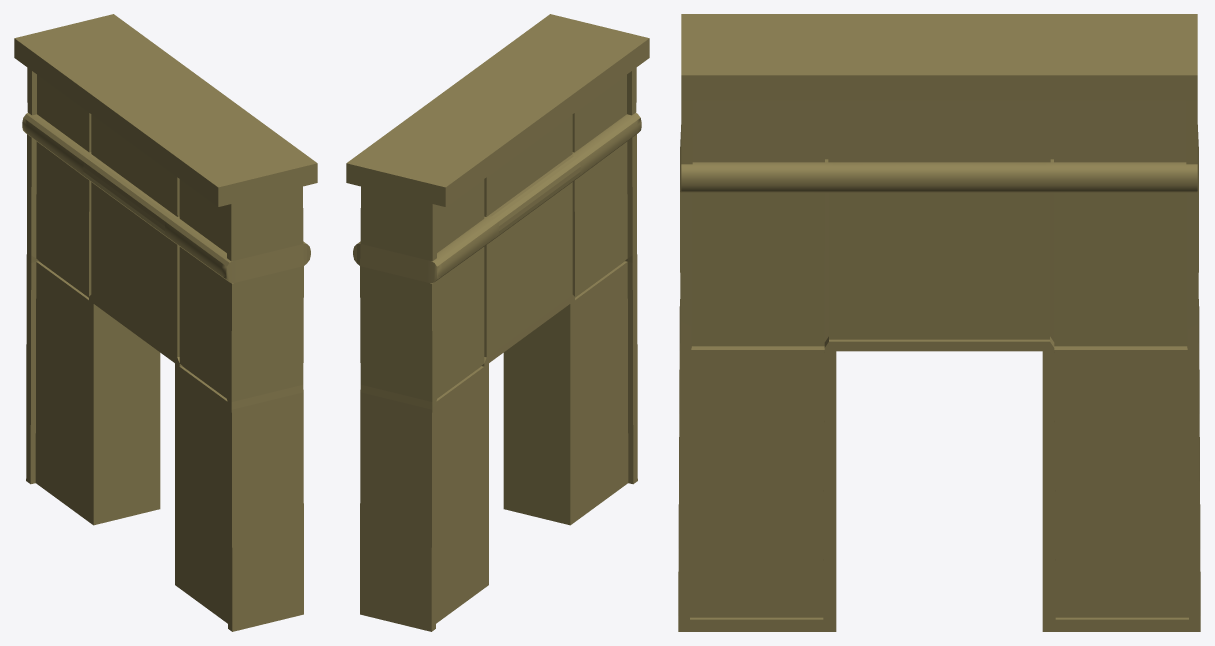
The model's file is Passagem2.fbx.
3 renders of one model, left to right at view 1: azimuth 30°, elevation 25°; view 2: azimuth 150°, elevation 25°; view 3: azimuth 270°, elevation 25°, orthographic. The views are drawn at different scales.
Visible parts, largest first — view 1: Passagem1; view 2: Passagem1; view 3: Passagem1.
Part boxes in pixels (x1=…): Passagem1: x1=14, y1=14, x2=317, y2=631; Passagem1: x1=346, y1=14, x2=649, y2=631; Passagem1: x1=678, y1=14, x2=1200, y2=631.
Bounding box in the file's own units: 7.3 × 31.37 × 26.24.
